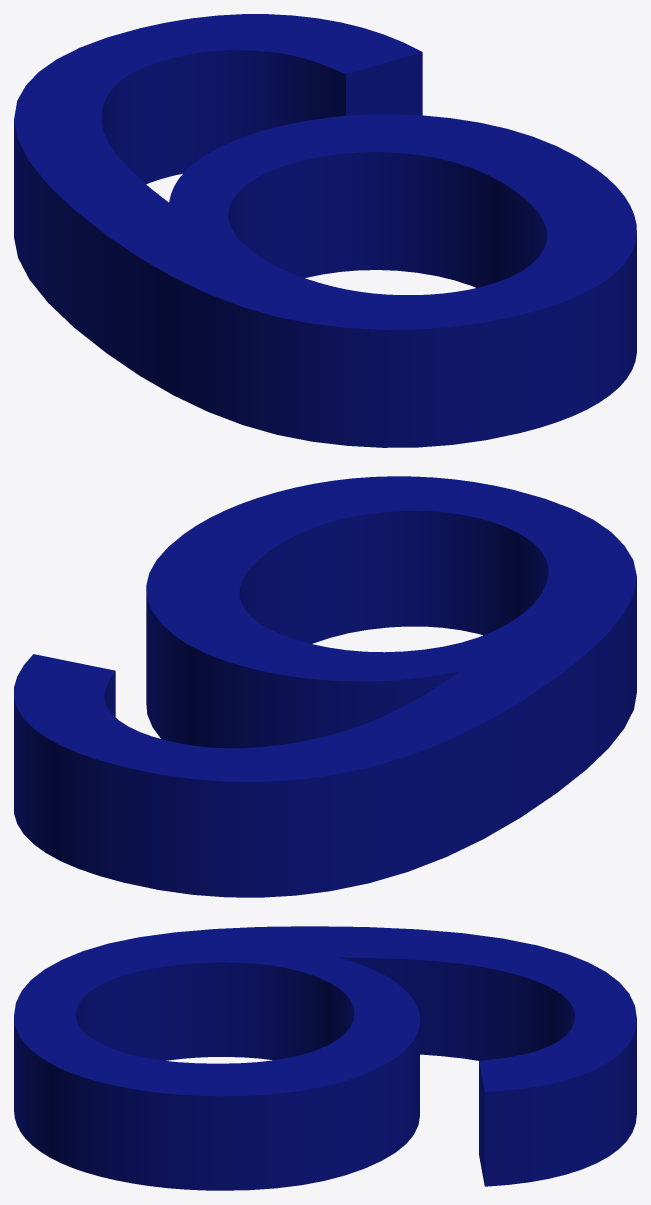
The picture shows the model from 3 angles, top to bottom: view 1: azimuth 30°, elevation 25°; view 2: azimuth 150°, elevation 25°; view 3: azimuth 270°, elevation 25°; orthographic projection. The views are drawn at different scales.
Visible parts, largest first — view 1: TextPlus058; view 2: TextPlus058; view 3: TextPlus058.
Boxes of the visible parts, left/top/right/bottom form: TextPlus058: left=14, top=14, right=636, bottom=447; TextPlus058: left=14, top=476, right=636, bottom=897; TextPlus058: left=14, top=926, right=636, bottom=1190.
Size of the model in its own units: 16.92 by 4.38 by 26.2.
